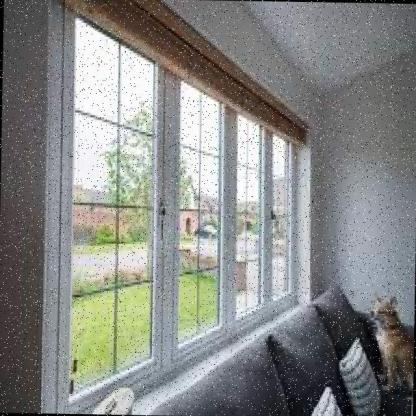Window: (58, 5, 166, 402), (171, 64, 228, 354), (232, 107, 268, 333)
